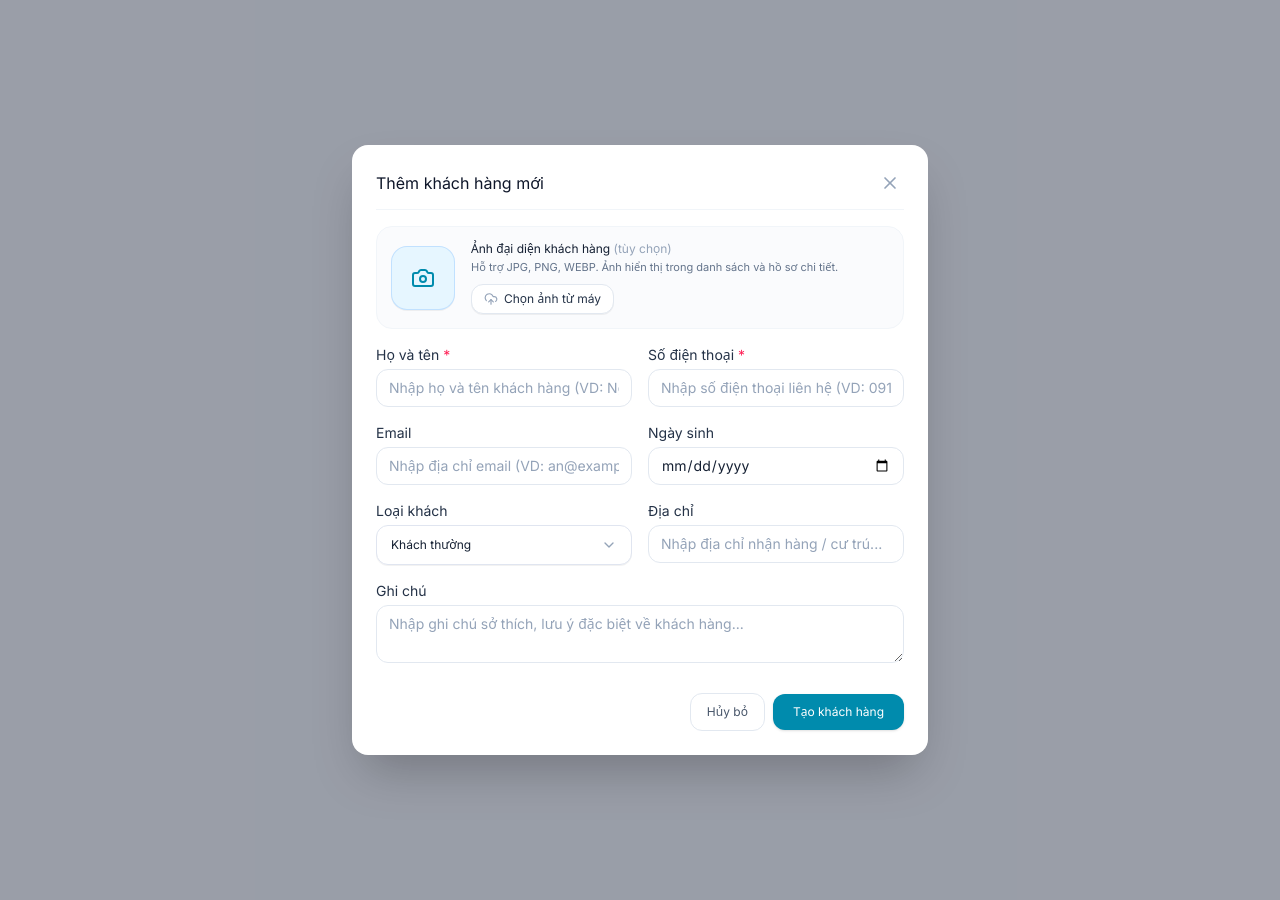
Test case: CustomerFormDialog › renders all form fields with consistent styling and customer type dropdown
The image size is (1280, 900).
Expected: the field with placeholder "Nhập họ và tên khách hàng (VD: Nguyễn Văn A)..." is shown, x1=376 y1=369 x2=632 y2=407
Expected: the field with placeholder "Nhập số điện thoại liên hệ (VD: 0912 345 678)..." is shown, x1=648 y1=369 x2=904 y2=407
# Click dropdown to view options
What coordinates should you click on to do the following:
click the button "Khách thường"
I would click on:
 (504, 545)
Its box is x1=376 y1=525 x2=632 y2=565.
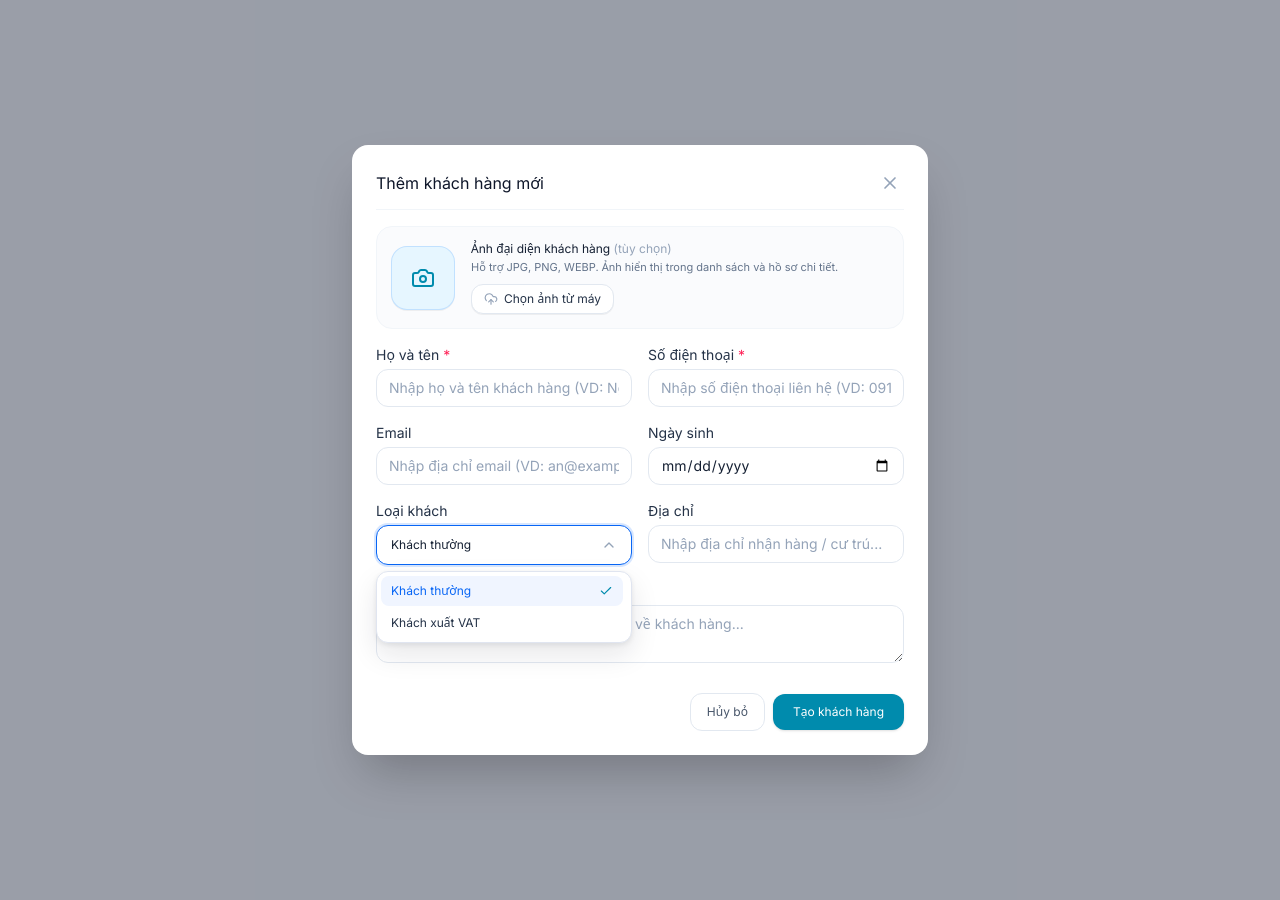
# Select VAT from custom option button
What coordinates should you click on to do the following:
click the option "Khách xuất VAT"
I would click on:
 (502, 623)
Its box is x1=381 y1=608 x2=623 y2=638.
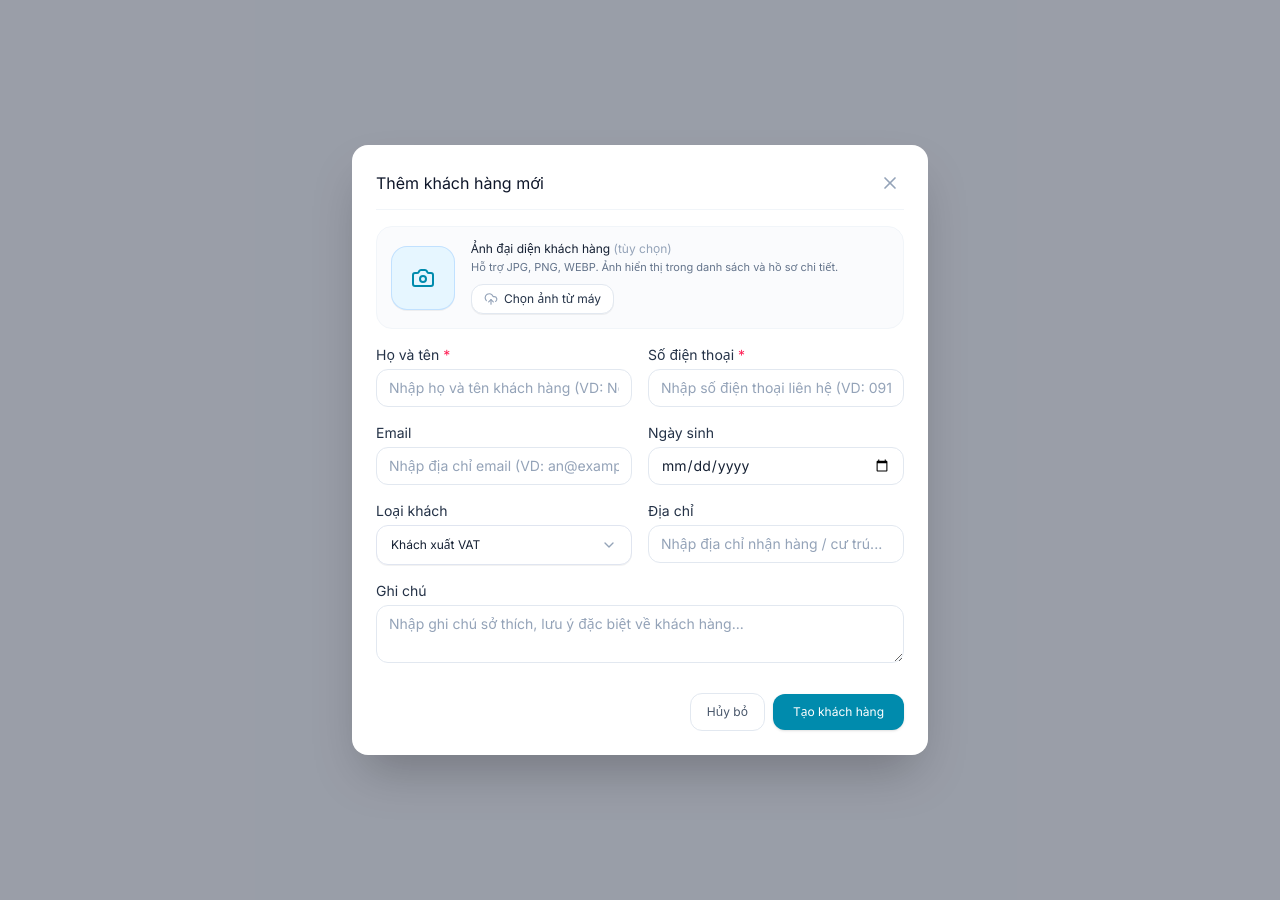
Expected: the button "Khách xuất VAT" is shown, x1=376 y1=525 x2=632 y2=565
